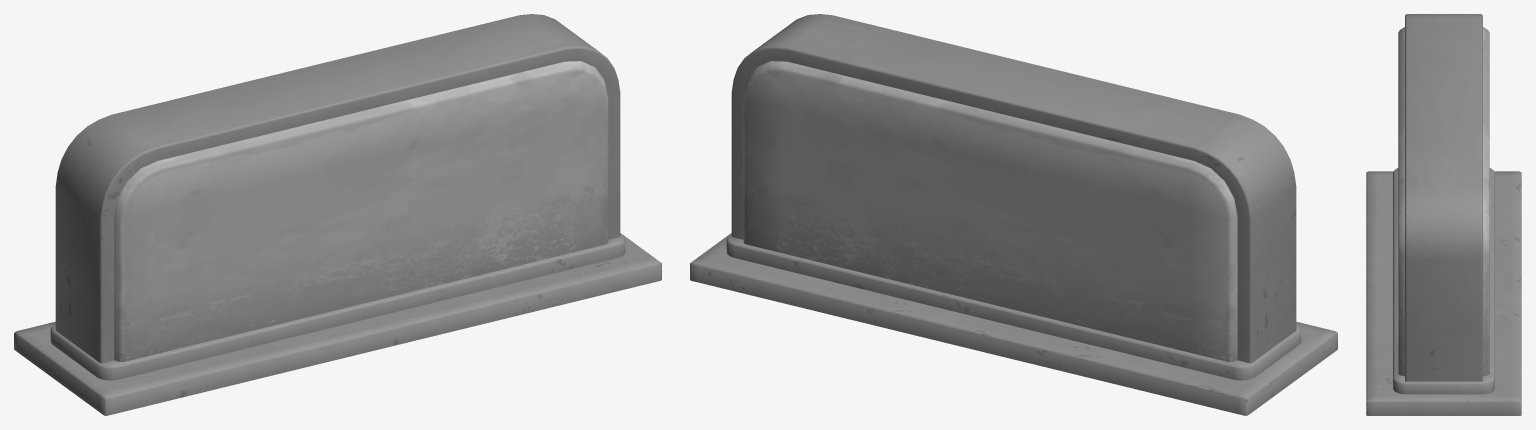
Rendered from Wall1wide.fbx.
The picture shows the model from 3 angles, left to right: view 1: azimuth 30°, elevation 25°; view 2: azimuth 150°, elevation 25°; view 3: azimuth 270°, elevation 25°; orthographic projection. The views are drawn at different scales.
Visible parts, largest first — view 1: Wall1Wide; view 2: Wall1Wide; view 3: Wall1Wide.
Part boxes in pixels (x1=…): Wall1Wide: x1=14, y1=14, x2=661, y2=415; Wall1Wide: x1=690, y1=14, x2=1337, y2=415; Wall1Wide: x1=1366, y1=14, x2=1521, y2=415.
Bounding box in the file's own units: 700 × 280 × 200.
